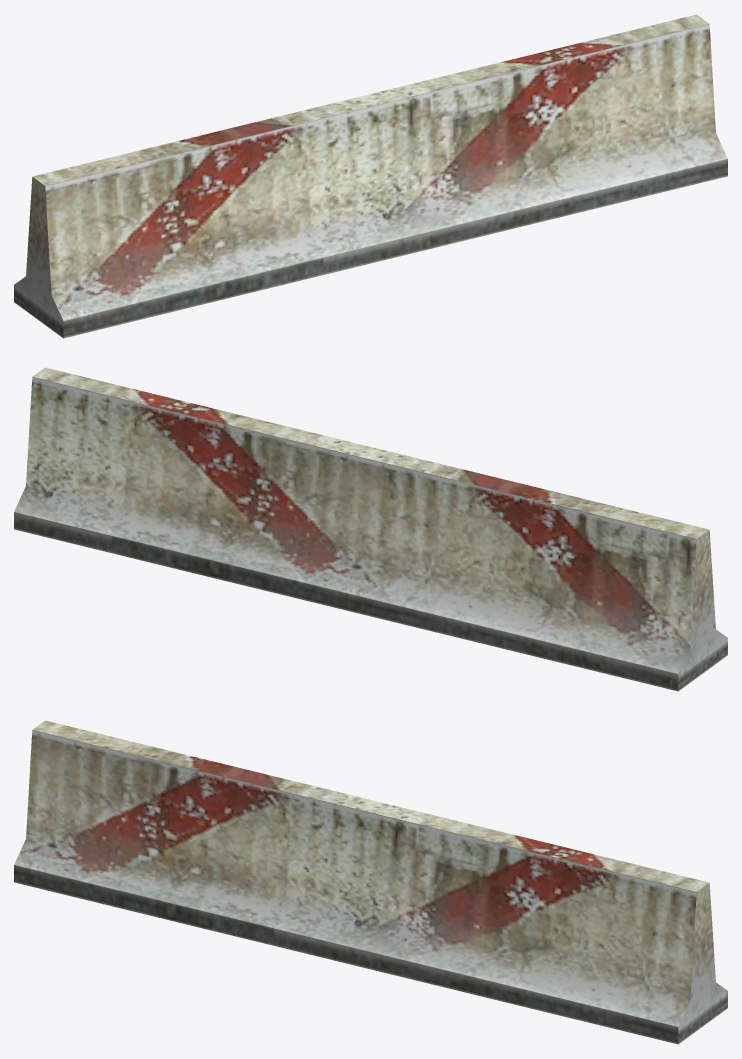
File: concrete_barrier.fbx
3 views of the same model, one above another, from view 1: azimuth 30°, elevation 25°; view 2: azimuth 150°, elevation 25°; view 3: azimuth 330°, elevation 25° (orthographic).
Parts seen in each view (by area): view 1: mesh_0; view 2: mesh_0; view 3: mesh_0.
Boxes of the visible parts, x1,y1,x2,y2 form: mesh_0: (14,14,727,338); mesh_0: (14,367,727,691); mesh_0: (14,720,727,1044).
Bounding box in the file's own units: 400 × 80 × 51.68.
Materials: 1 (1 with a texture image).
